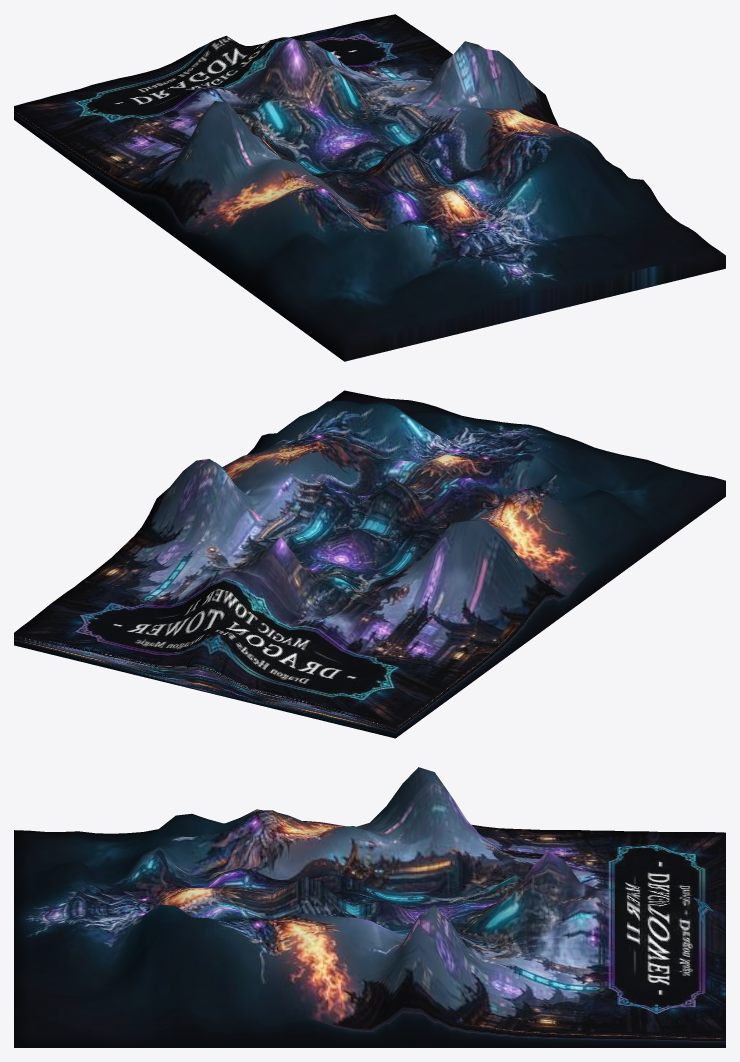
The model's file is TOWER_11_Dragon_Tower.glb.
3 renders of one model, top to bottom at view 1: azimuth 30°, elevation 25°; view 2: azimuth 150°, elevation 25°; view 3: azimuth 270°, elevation 25°, orthographic. The views are drawn at different scales.
Visible parts, largest first — view 1: TOWER_11_Dragon_Tower; view 2: TOWER_11_Dragon_Tower; view 3: TOWER_11_Dragon_Tower.
Boxes of the visible parts, x1=… form: TOWER_11_Dragon_Tower: x1=14, y1=14, x2=725, y2=361; TOWER_11_Dragon_Tower: x1=14, y1=390, x2=725, y2=738; TOWER_11_Dragon_Tower: x1=14, y1=767, x2=725, y2=1047.
Size of the model in its own units: 2 by 0.51 by 3.
Materials: 1 (1 with a texture image).
